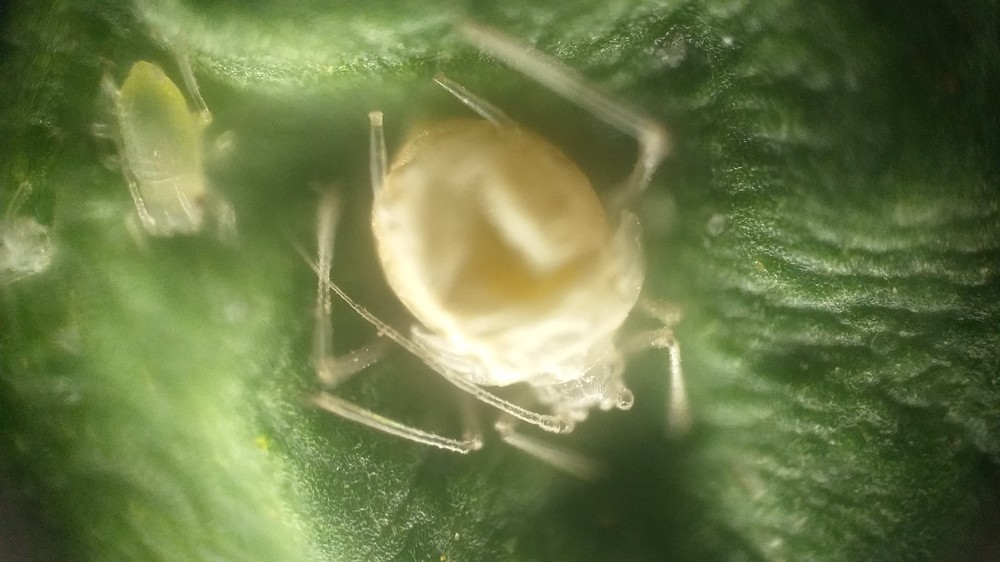Pulgon: (283, 41, 729, 490), (72, 43, 254, 272)
